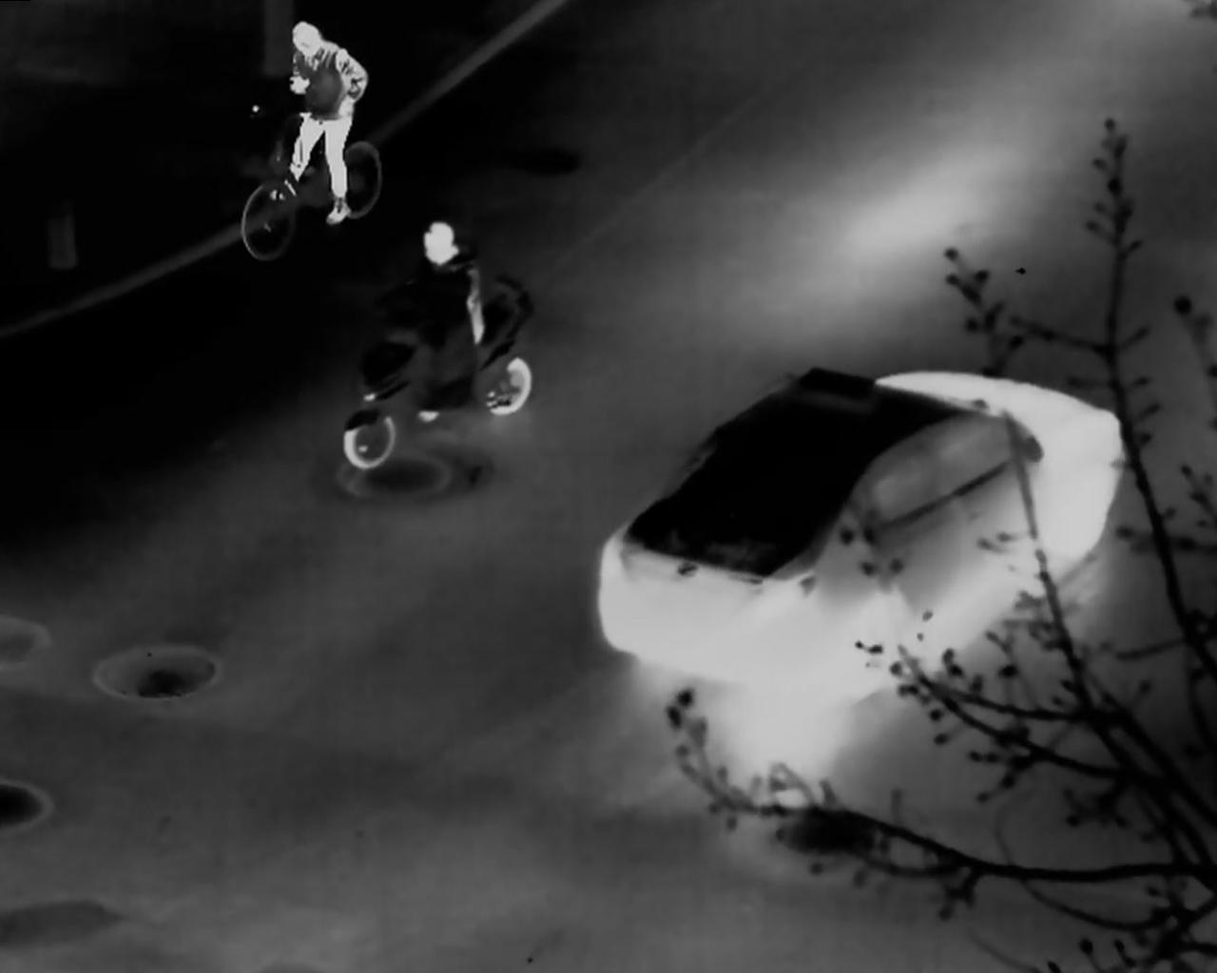person: (276, 20, 358, 226), (418, 220, 478, 379)
